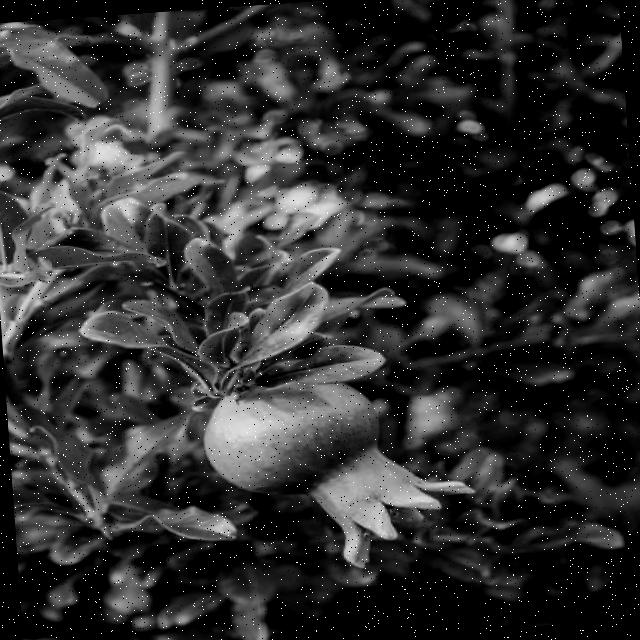Unripe: (199, 360, 482, 573)
